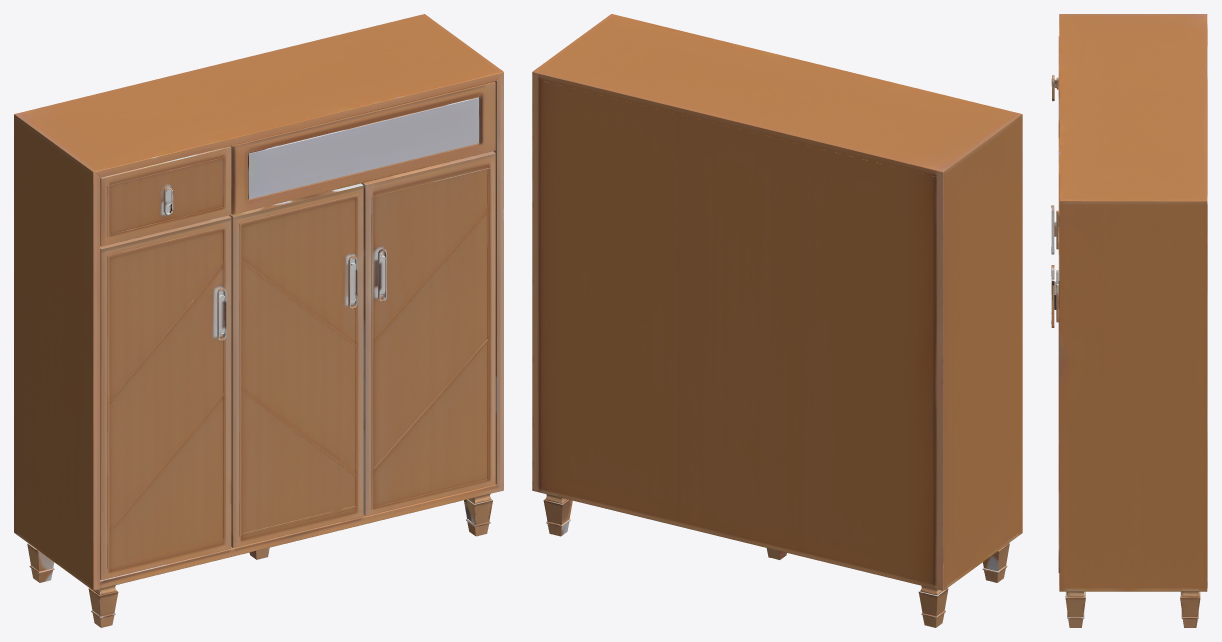
The model's file is edited_mesh.glb.
3 renders of one model, left to right at view 1: azimuth 30°, elevation 25°; view 2: azimuth 150°, elevation 25°; view 3: azimuth 270°, elevation 25°, orthographic. The views are drawn at different scales.
Parts seen in each view (by area): view 1: solid_001_wire; view 2: solid_001_wire; view 3: solid_001_wire.
Part boxes in pixels (bbox=[...]): solid_001_wire: bbox=[14, 14, 503, 627]; solid_001_wire: bbox=[532, 14, 1022, 627]; solid_001_wire: bbox=[1051, 14, 1207, 627].
Bounding box in the file's own units: 1.27 × 1.37 × 0.4471.
Materials: 1 (1 with a texture image).
